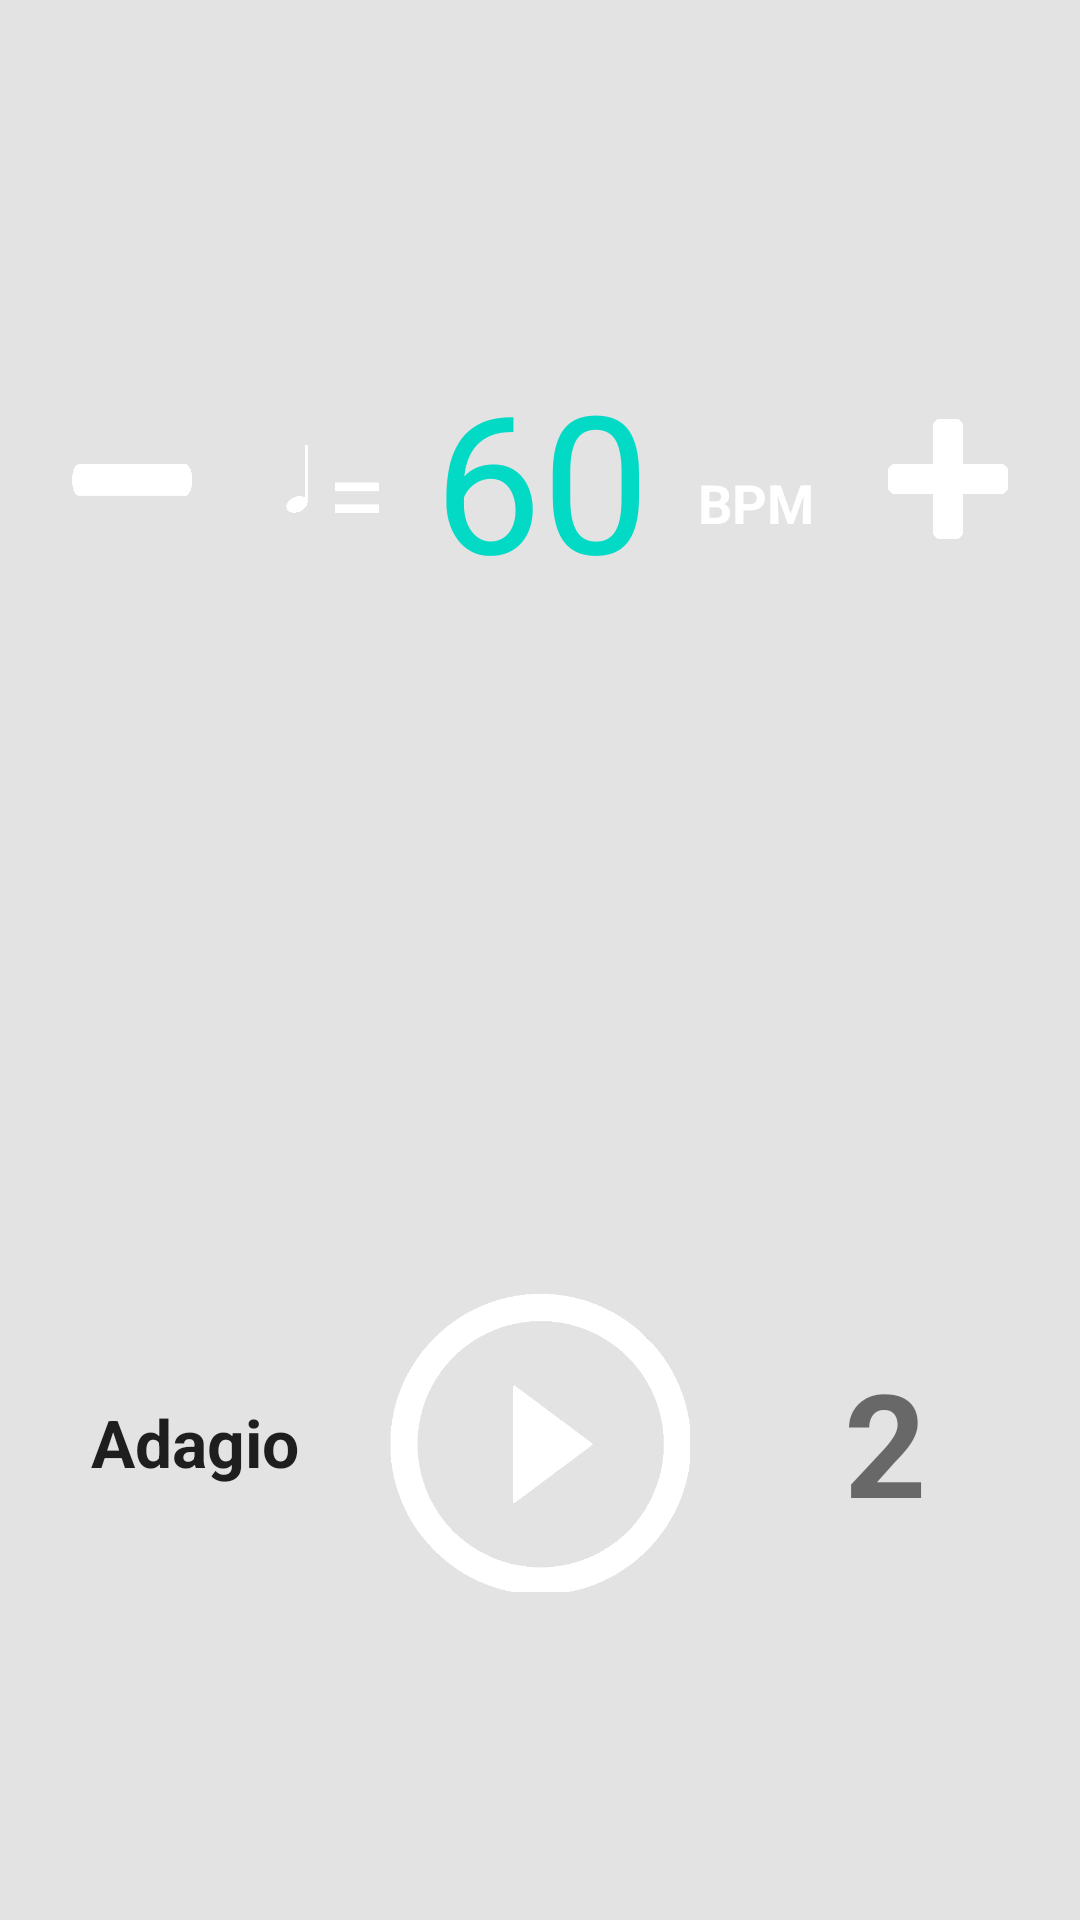

Screen size 1080×1920. Icon name, then its center in pixels as [x,y]:
increase tempo: [948,479]
quarter note: [297,479]
